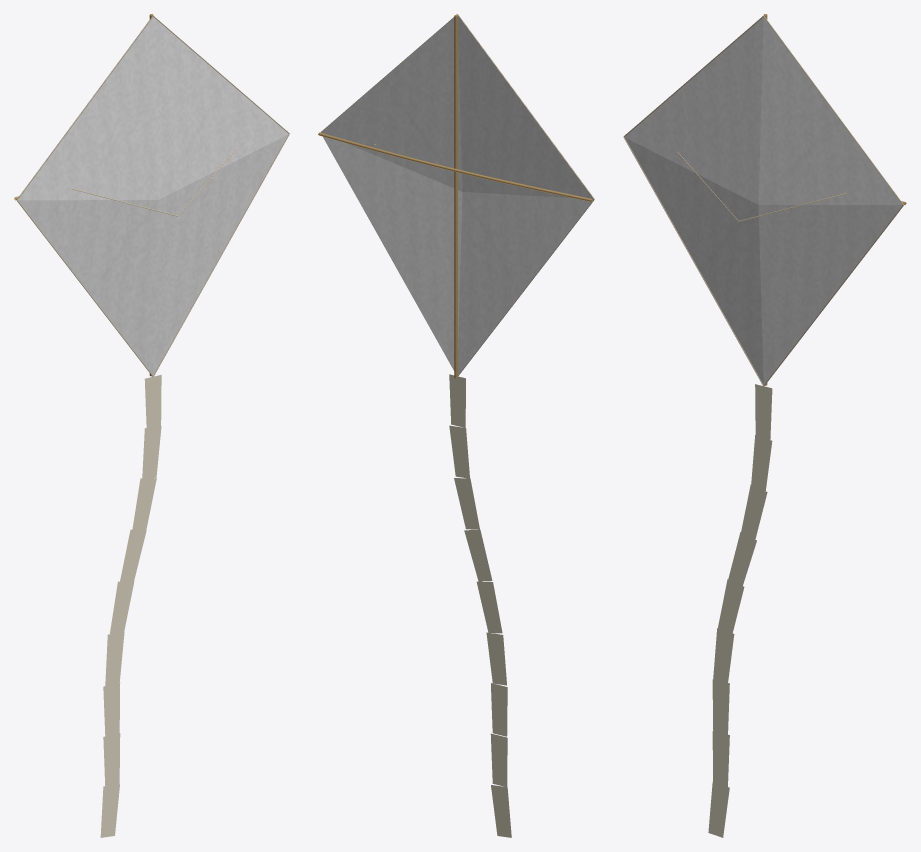
Rendered from kite.glb.
3 renders of one model, left to right at view 1: azimuth 30°, elevation 25°; view 2: azimuth 150°, elevation 25°; view 3: azimuth 330°, elevation 25°, orthographic. The views are drawn at different scales.
Visible parts, largest first — view 1: KiteSail, Ribbon_00, Ribbon_03, Ribbon_02, Ribbon_05, Ribbon_01, Ribbon_08, Ribbon_04, Ribbon_07, Ribbon_06; view 2: KiteSail, VerticalSpar, BowedCrossSpar, Ribbon_07, Ribbon_06, Ribbon_01, Ribbon_03, Ribbon_02, Ribbon_05, Ribbon_04, Ribbon_08, Ribbon_00; view 3: KiteSail, Ribbon_00, Ribbon_05, Ribbon_04, Ribbon_02, Ribbon_06, Ribbon_08, Ribbon_01, Ribbon_07, Ribbon_03.
Boxes of the visible parts, <box> form: KiteSail: <box>17,17,288,375</box>; Ribbon_00: <box>144,374,161,428</box>; Ribbon_03: <box>120,529,146,582</box>; Ribbon_02: <box>132,478,156,530</box>; Ribbon_05: <box>105,632,124,685</box>; Ribbon_01: <box>142,426,161,479</box>; Ribbon_08: <box>100,784,119,837</box>; Ribbon_04: <box>110,581,134,633</box>; Ribbon_07: <box>103,733,120,787</box>; Ribbon_06: <box>103,682,120,736</box>; KiteSail: <box>321,16,593,375</box>; VerticalSpar: <box>454,15,457,378</box>; BowedCrossSpar: <box>318,132,592,201</box>; Ribbon_07: <box>490,733,507,786</box>; Ribbon_06: <box>491,683,507,736</box>; Ribbon_01: <box>449,425,469,478</box>; Ribbon_03: <box>464,529,492,581</box>; Ribbon_02: <box>454,478,479,529</box>; Ribbon_05: <box>486,632,506,685</box>; Ribbon_04: <box>476,581,502,633</box>; Ribbon_08: <box>491,785,511,837</box>; Ribbon_00: <box>449,374,465,427</box>; KiteSail: <box>624,17,902,384</box>; Ribbon_00: <box>755,384,772,439</box>; Ribbon_05: <box>713,628,734,684</box>; Ribbon_04: <box>718,579,744,634</box>; Ribbon_02: <box>741,484,767,539</box>; Ribbon_06: <box>712,679,729,735</box>; Ribbon_08: <box>708,782,729,837</box>; Ribbon_01: <box>751,435,772,490</box>; Ribbon_07: <box>712,731,729,786</box>; Ribbon_03: <box>728,532,756,586</box>.
Bounding box in the file's own units: 0.6818 × 1.93 × 0.132.
Materials: 4 (1 with a texture image).
